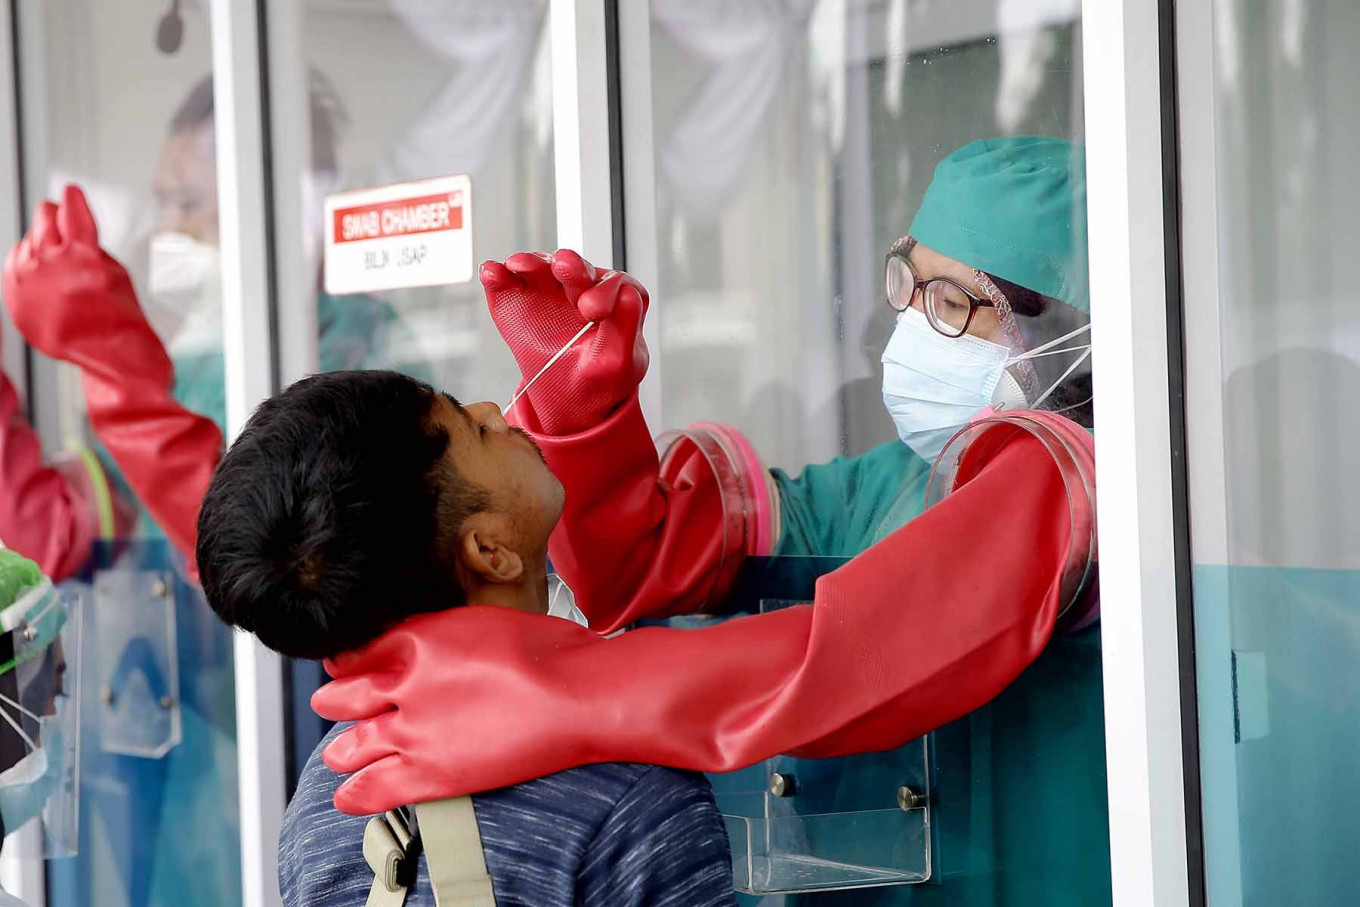Face_Shield: (1, 572, 94, 872)
with_mask: (872, 269, 1037, 482)
without_mask: (428, 378, 581, 601)
